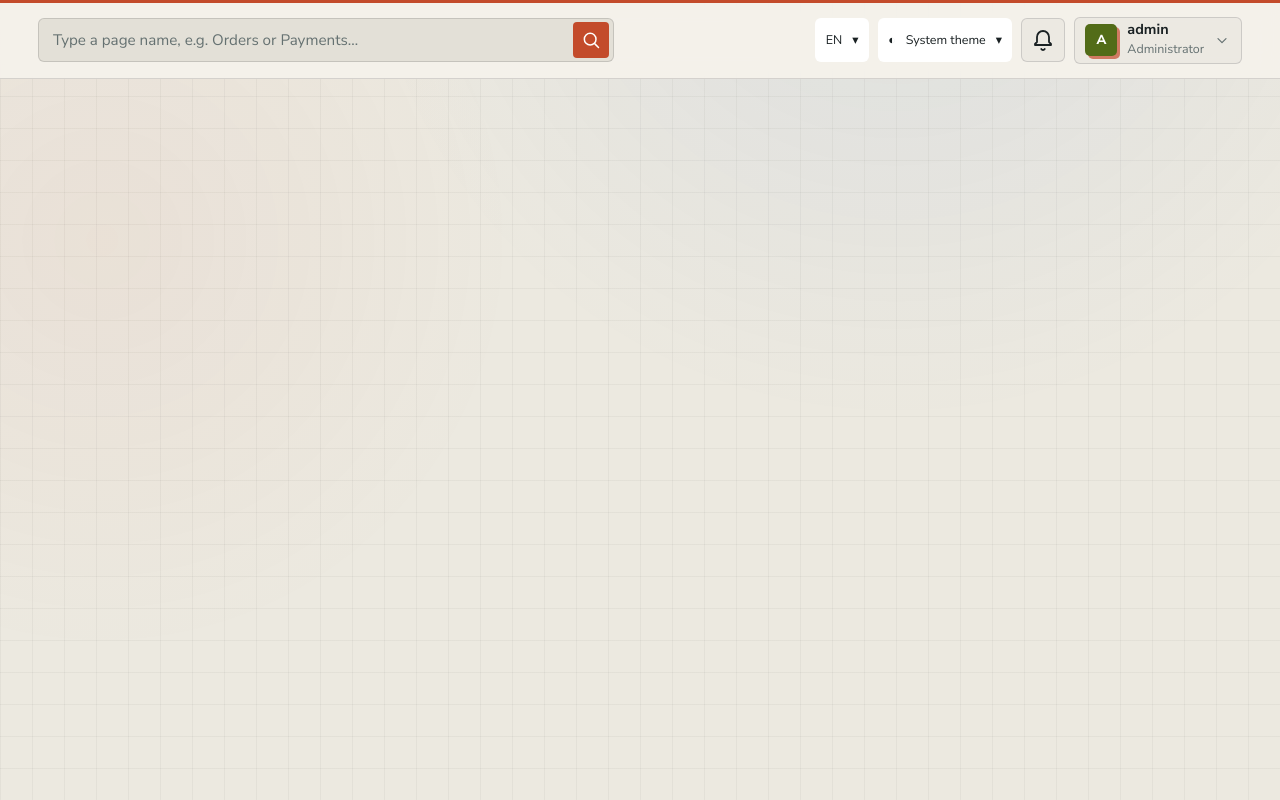
it: AdminHeader activity feed request states › preserves prior activities alongside a retryable refresh error
Click the button named "Notifications".
click(1043, 40)  # box [1021,18,1065,62]
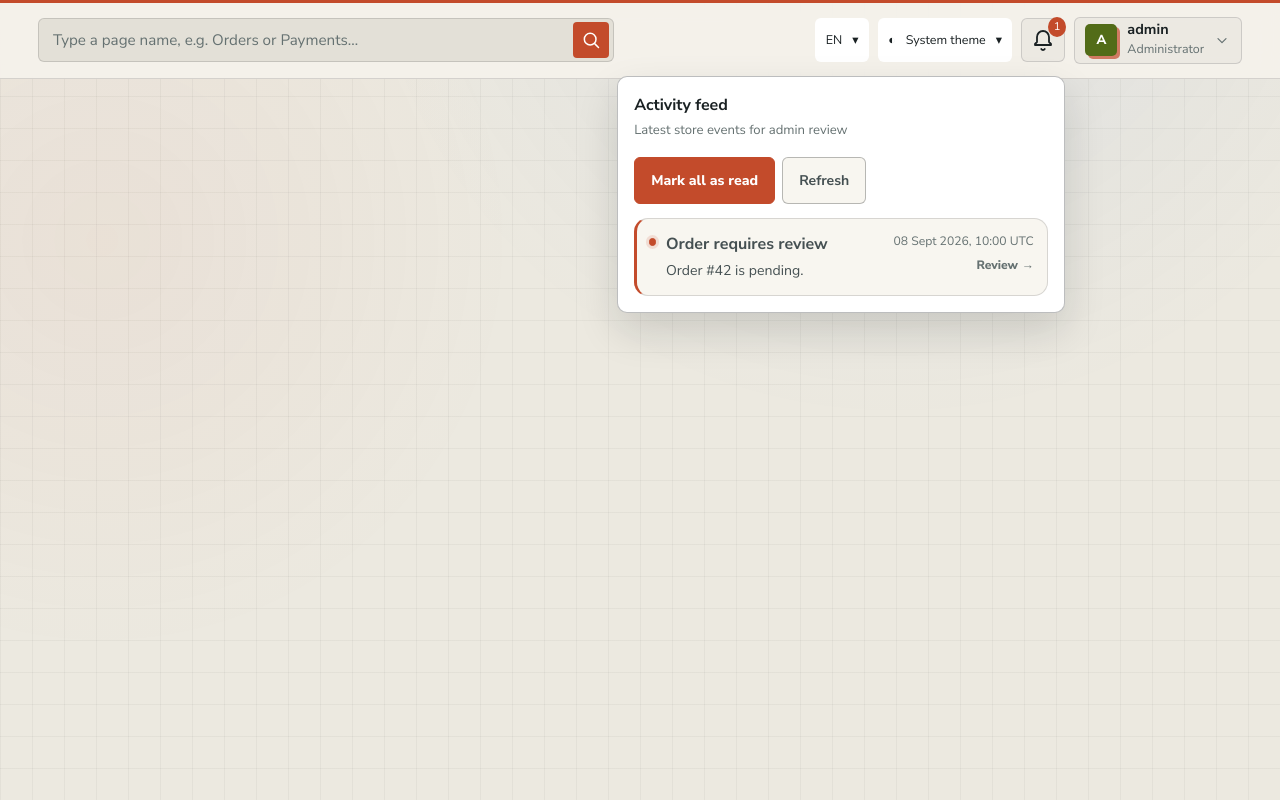
Click the button "Refresh".
click(824, 181)  # box [782,157,866,204]
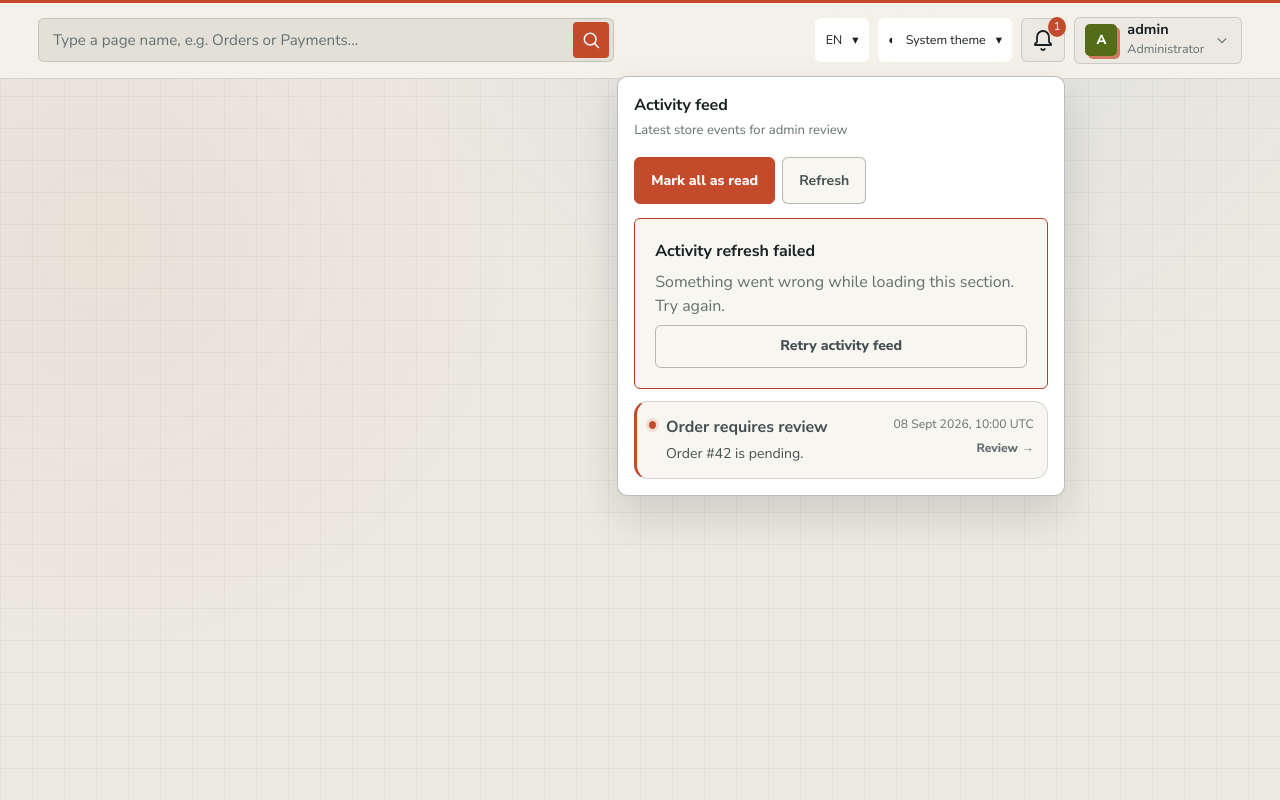
Check: the text "Order requires review" is shown, box [666,415,828,439]
Check: the message shows "Activity refresh failed", box [655,240,815,262]
Check: the button "Retry activity feed" is shown, box [655,325,1027,368]
